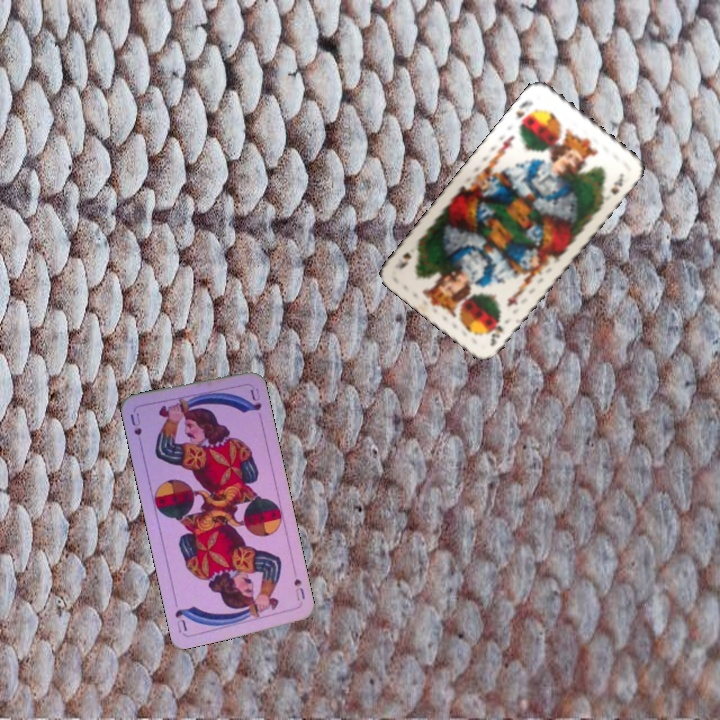SK: (512, 96, 539, 130), (486, 321, 506, 349)
SU: (126, 409, 144, 438), (290, 574, 307, 603)
